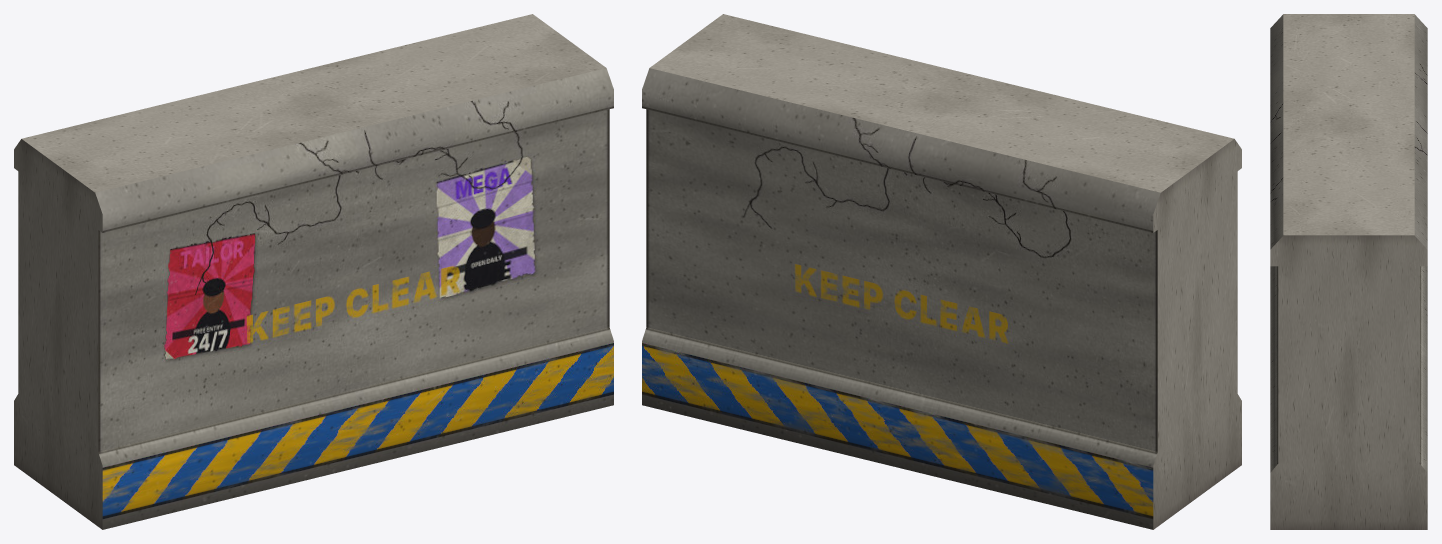
File: env_wall_c.glb
The picture shows the model from 3 angles, left to right: view 1: azimuth 30°, elevation 25°; view 2: azimuth 150°, elevation 25°; view 3: azimuth 270°, elevation 25°; orthographic projection. The views are drawn at different scales.
Parts seen in each view (by area): view 1: env_wall_c_body; view 2: env_wall_c_body; view 3: env_wall_c_body.
Part boxes in pixels (x1,y1,x2,y2): env_wall_c_body: (14, 14, 613, 529); env_wall_c_body: (642, 14, 1241, 529); env_wall_c_body: (1270, 14, 1427, 529).
Size of the model in its own units: 1 by 0.62 by 0.3.
Materials: 1 (1 with a texture image).
